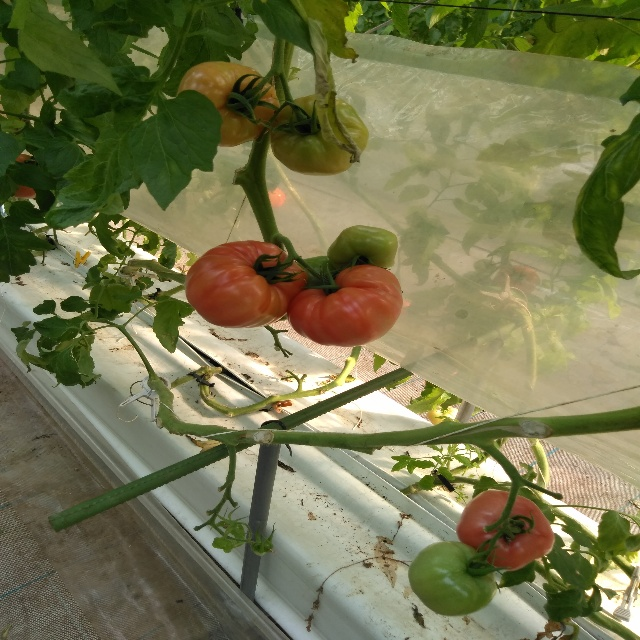b_fully_ripened: (287, 264, 402, 347), (455, 491, 554, 572)
b_green: (268, 94, 369, 176), (407, 541, 497, 617), (326, 225, 399, 274), (295, 255, 339, 291)
b_half_ripened: (185, 240, 308, 329), (177, 62, 282, 147)
